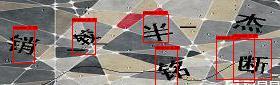chinese: (236, 52, 274, 79), (156, 58, 193, 81), (235, 10, 270, 33), (143, 21, 176, 44), (10, 34, 40, 56), (70, 25, 99, 46)
